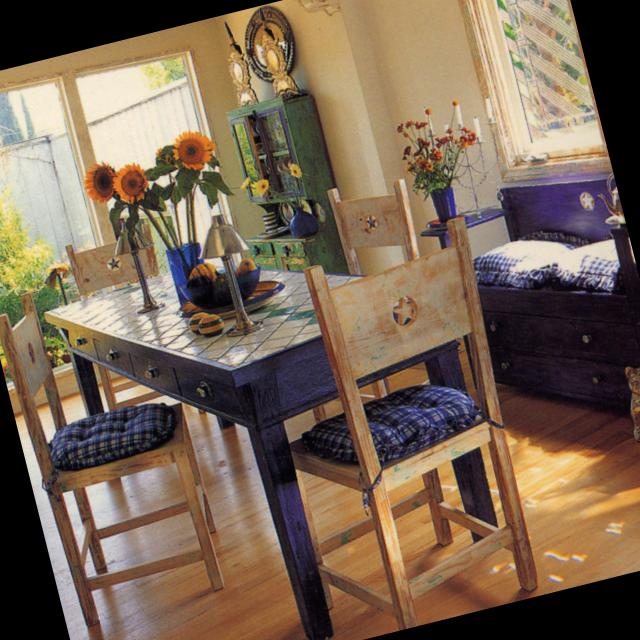painting crop: (458, 0, 613, 179)
